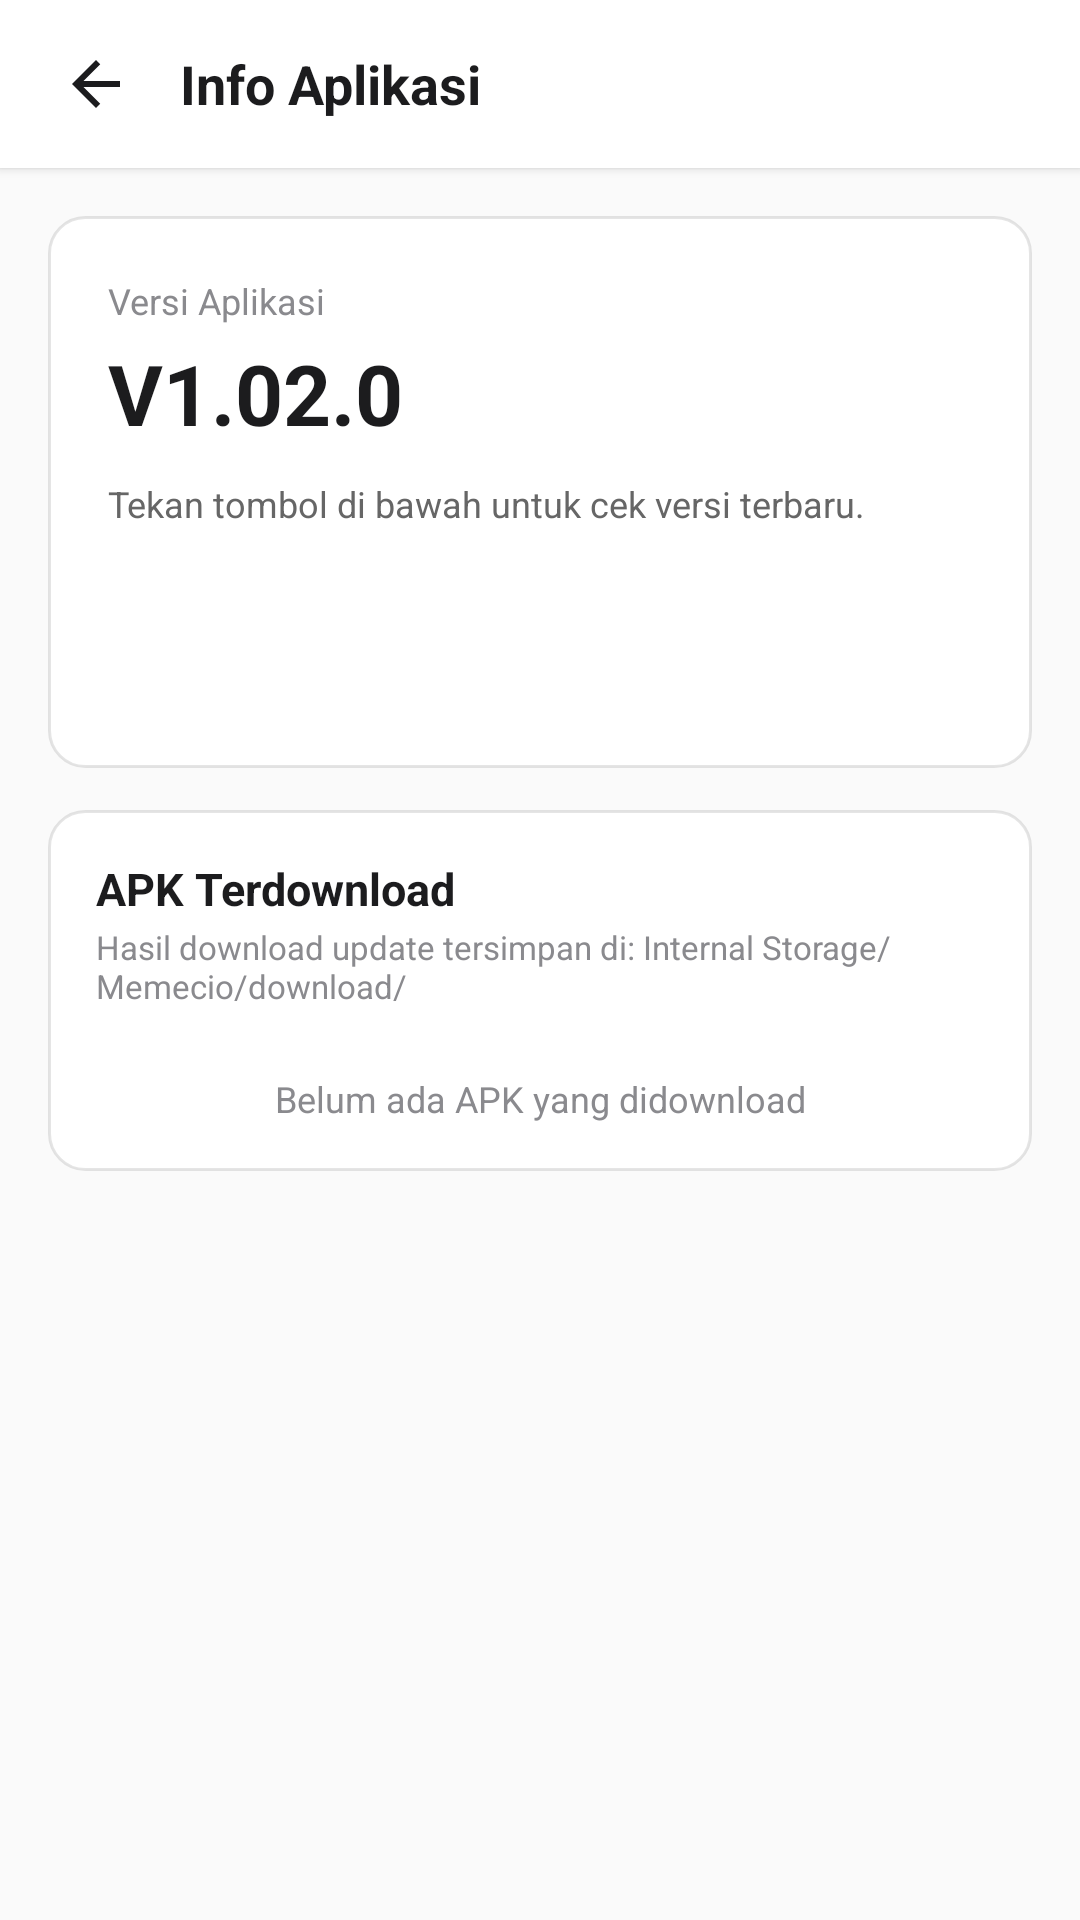

Where to tap for icons on this 1080 x 1920 app screen, as [x,y]:
Kembali: [96,84]
